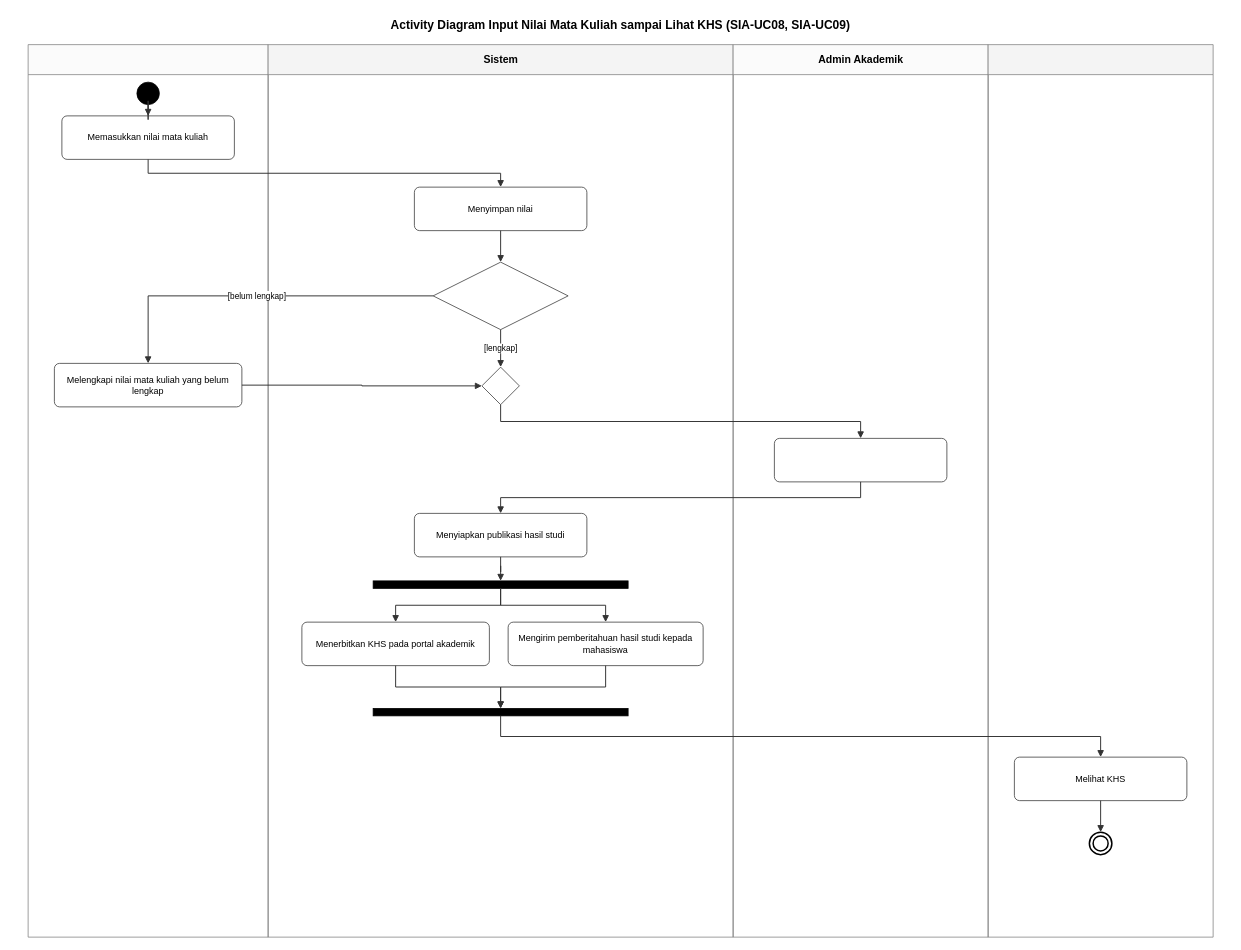
This 1241x950 diagram has some shape labels left out. The shapes that lost their labels are listed below. From the top down, each one's box as (x1, y1, x2, y2) in pixels, then its label:
(432, 261, 568, 330): Nilai sudah lengkap?
(774, 438, 947, 482): Memeriksa dan mengesahkan nilai
(27, 44, 268, 937): Dosen
(987, 44, 1213, 937): Mahasiswa
